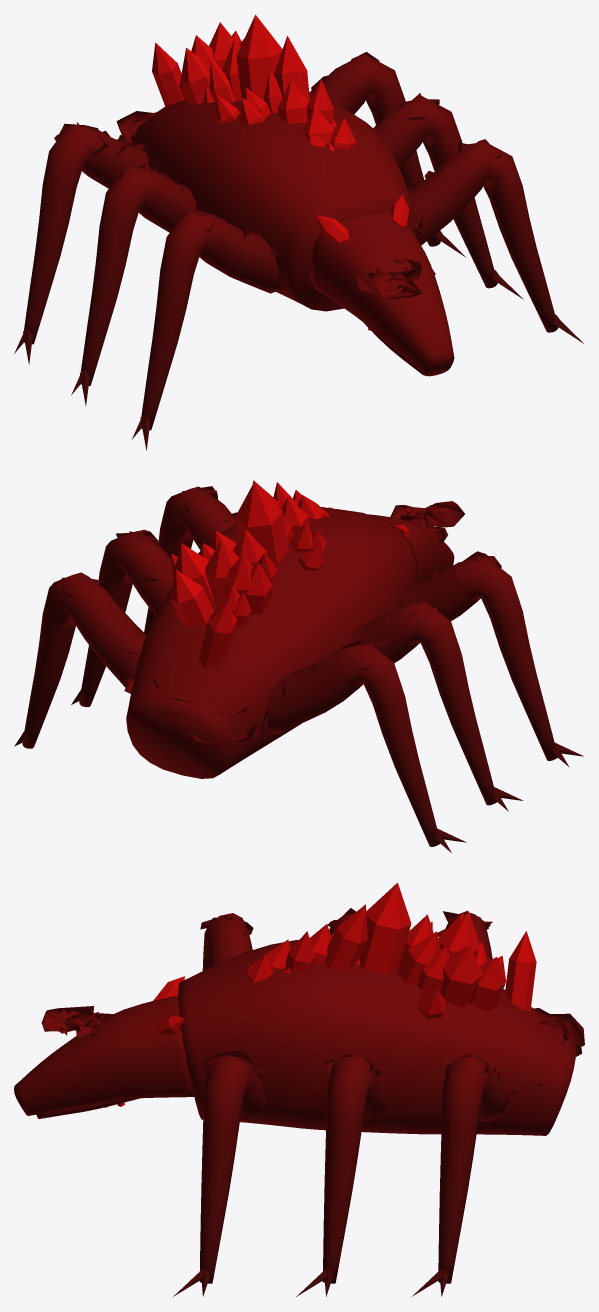
Rendered from crawler.glb.
The picture shows the model from 3 angles, top to bottom: view 1: azimuth 30°, elevation 25°; view 2: azimuth 150°, elevation 25°; view 3: azimuth 270°, elevation 25°; orthographic projection.
Visible parts, largest first — view 1: body, head, leg_0, leg_1, leg_4, leg_2, leg_3, leg_5; view 2: body, leg_4, leg_5, leg_0, leg_2, leg_3, leg_1, head; view 3: body, head, leg_1, leg_5, leg_3, leg_0, leg_4, jaw.
Boxes of the visible parts, bbox=[...] form: body: bbox=[116, 14, 423, 311]; head: bbox=[310, 194, 454, 376]; leg_0: bbox=[132, 210, 281, 450]; leg_1: bbox=[407, 139, 583, 343]; leg_4: bbox=[14, 122, 150, 364]; leg_2: bbox=[71, 163, 196, 405]; leg_3: bbox=[373, 93, 523, 299]; leg_5: bbox=[309, 52, 466, 257]; body: bbox=[124, 480, 417, 778]; leg_4: bbox=[263, 640, 466, 852]; leg_5: bbox=[14, 572, 146, 748]; leg_0: bbox=[401, 551, 583, 767]; leg_2: bbox=[349, 601, 523, 811]; leg_3: bbox=[71, 529, 172, 707]; leg_1: bbox=[144, 486, 237, 634]; head: bbox=[328, 501, 464, 583]; body: bbox=[172, 882, 584, 1135]; head: bbox=[14, 976, 194, 1115]; leg_1: bbox=[173, 1051, 266, 1296]; leg_5: bbox=[412, 1054, 508, 1296]; leg_3: bbox=[296, 1053, 387, 1296]; leg_0: bbox=[200, 913, 253, 970]; leg_4: bbox=[437, 910, 492, 961]; jaw: bbox=[36, 1098, 139, 1118].
Size of the model in its own units: 3.34 by 2.2 by 3.71.
